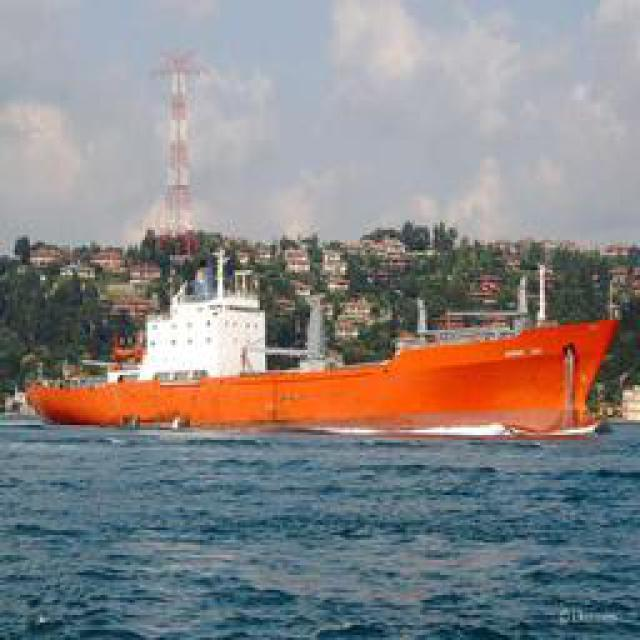Ship: (16, 292, 629, 445)
